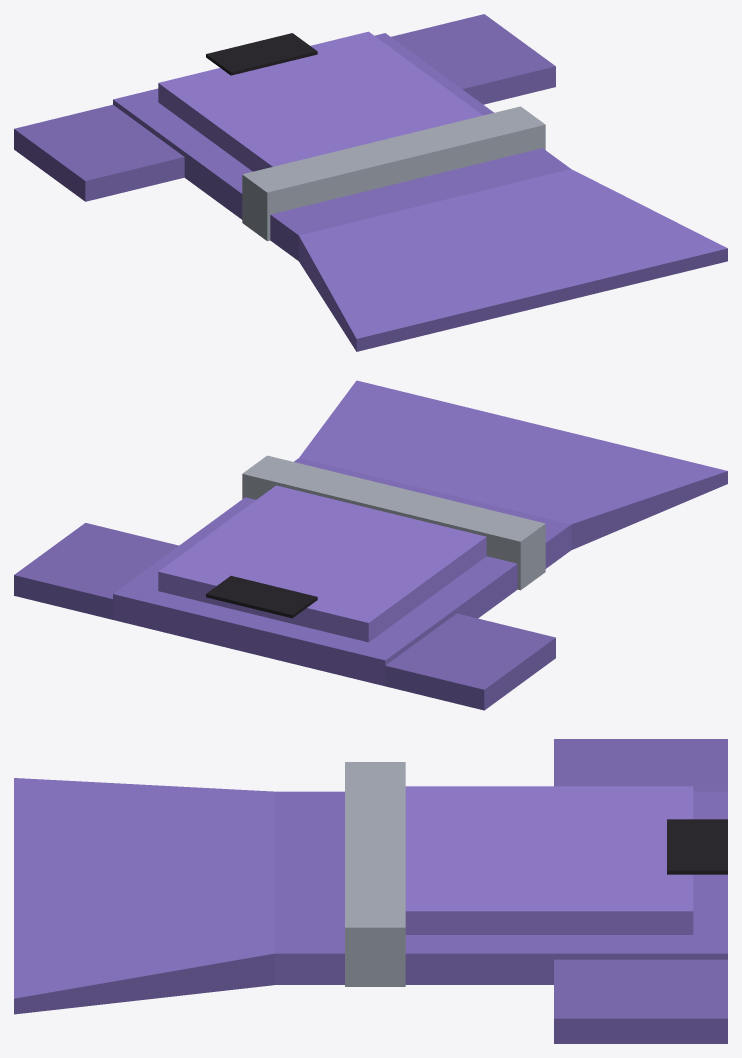
File: spidersilk_robe.glb
3 views of the same model, one above another, from view 1: azimuth 30°, elevation 25°; view 2: azimuth 150°, elevation 25°; view 3: azimuth 270°, elevation 25° (orthographic). The views are drawn at different scales.
Visible parts, largest first — view 1: spidersilk_robe; view 2: spidersilk_robe; view 3: spidersilk_robe.
Boxes of the visible parts, x1,y1,x2,y2 form: spidersilk_robe: [14, 14, 727, 351]; spidersilk_robe: [14, 380, 727, 710]; spidersilk_robe: [14, 739, 727, 1043].
Bounding box in the file's own units: 0.95 × 0.0938 × 1.02.
